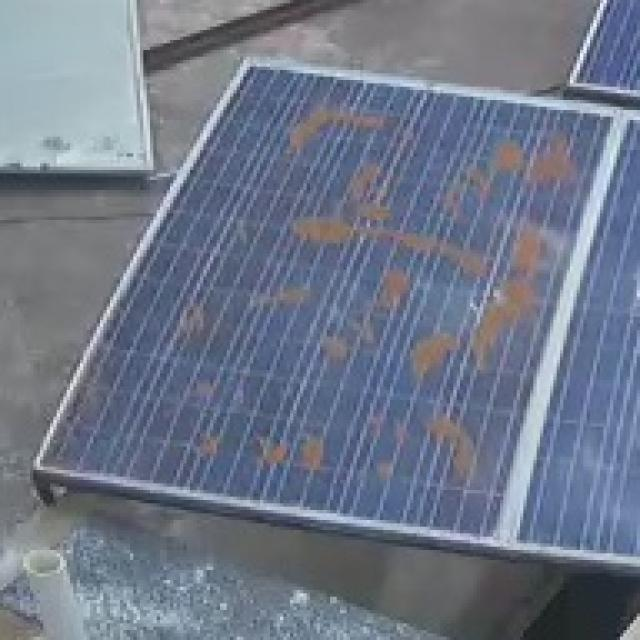Dusty: (282, 164, 406, 258), (444, 138, 584, 219), (418, 221, 556, 292), (420, 292, 532, 368), (285, 100, 400, 149), (426, 406, 481, 494), (364, 406, 410, 498), (336, 280, 420, 328), (165, 286, 222, 352), (253, 438, 340, 479), (243, 278, 320, 316), (323, 326, 353, 364), (191, 429, 220, 465)
